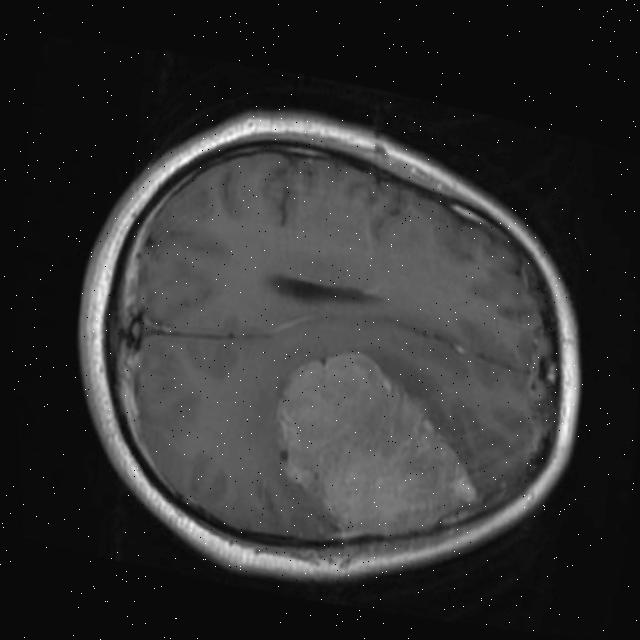Meningioma: (251, 333, 503, 569)
